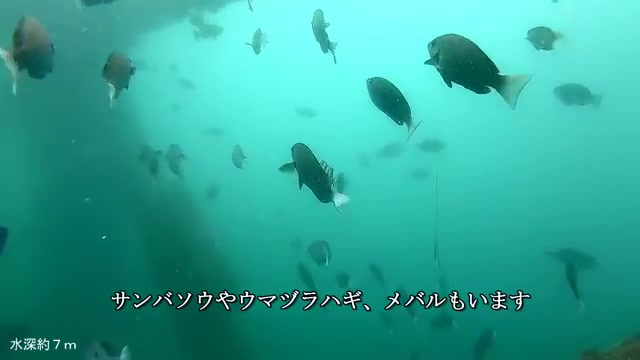gure: (425, 28, 550, 115), (357, 69, 433, 150)
smallfish: (282, 138, 361, 224), (1, 19, 67, 100), (301, 2, 346, 68), (550, 77, 616, 118), (96, 49, 138, 101)
